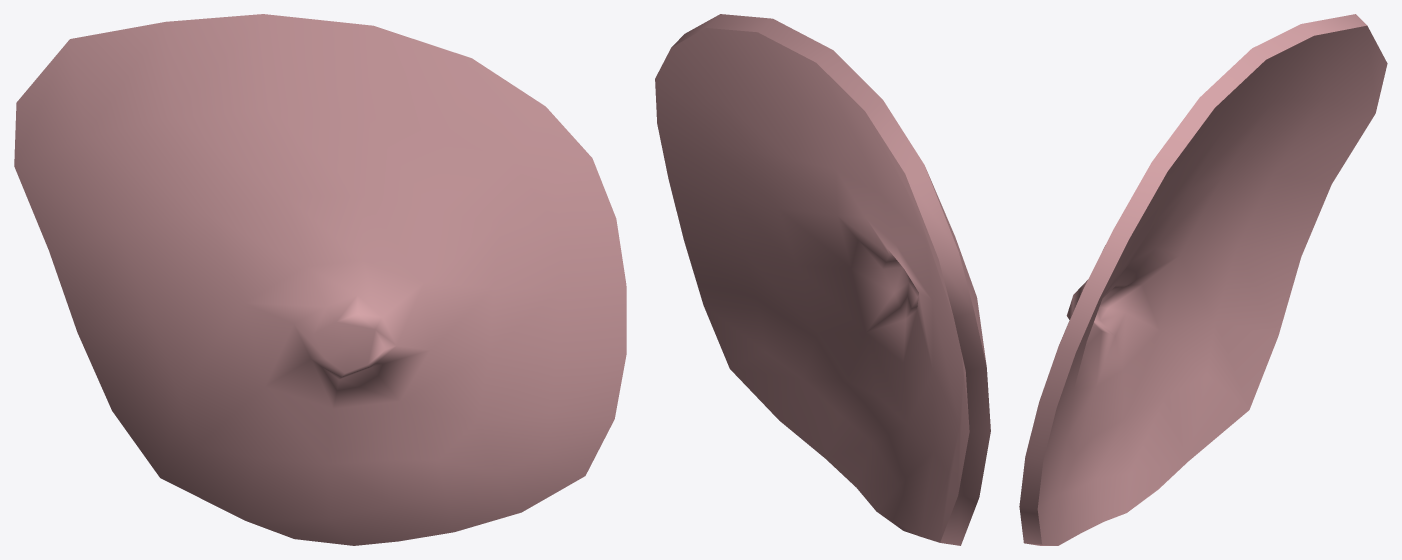
The picture shows the model from 3 angles, left to right: view 1: azimuth 30°, elevation 25°; view 2: azimuth 150°, elevation 25°; view 3: azimuth 270°, elevation 25°; orthographic projection. The views are drawn at different scales.
Visible parts, largest first — view 1: ZA_091185553780d47c; view 2: ZA_091185553780d47c; view 3: ZA_091185553780d47c.
Part boxes in pixels (box(x1,y1,x2,y2)): ZA_091185553780d47c: box(14, 14, 626, 545); ZA_091185553780d47c: box(655, 14, 990, 545); ZA_091185553780d47c: box(1019, 14, 1387, 545).
Size of the model in its own units: 0.0784 by 0.0816 by 0.0595.
